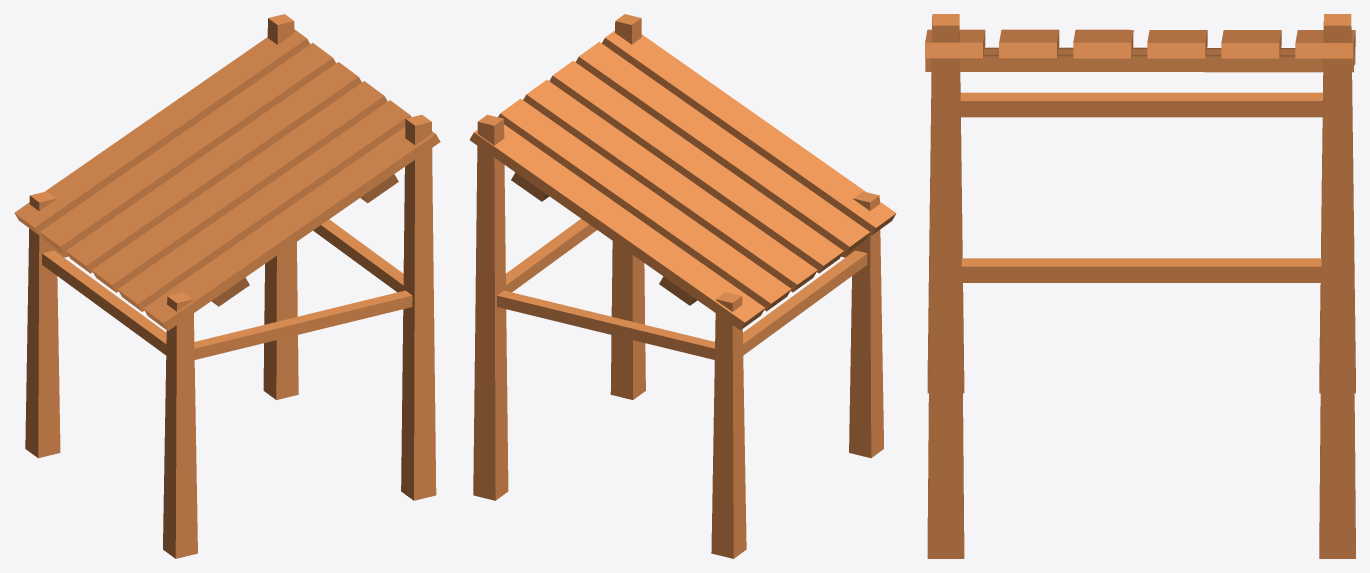
Rendered from structureRoof.fbx.
3 views of the same model, side by side, from view 1: azimuth 30°, elevation 25°; view 2: azimuth 150°, elevation 25°; view 3: azimuth 270°, elevation 25° (orthographic). The views are drawn at different scales.
Parts seen in each view (by area): view 1: structureRoof; view 2: structureRoof; view 3: structureRoof.
Part boxes in pixels (box(x1,y1,x2,y2)): structureRoof: box(14, 14, 440, 558); structureRoof: box(469, 14, 896, 558); structureRoof: box(925, 14, 1355, 558).
Size of the model in its own units: 5.33 by 6.84 by 5.03.
